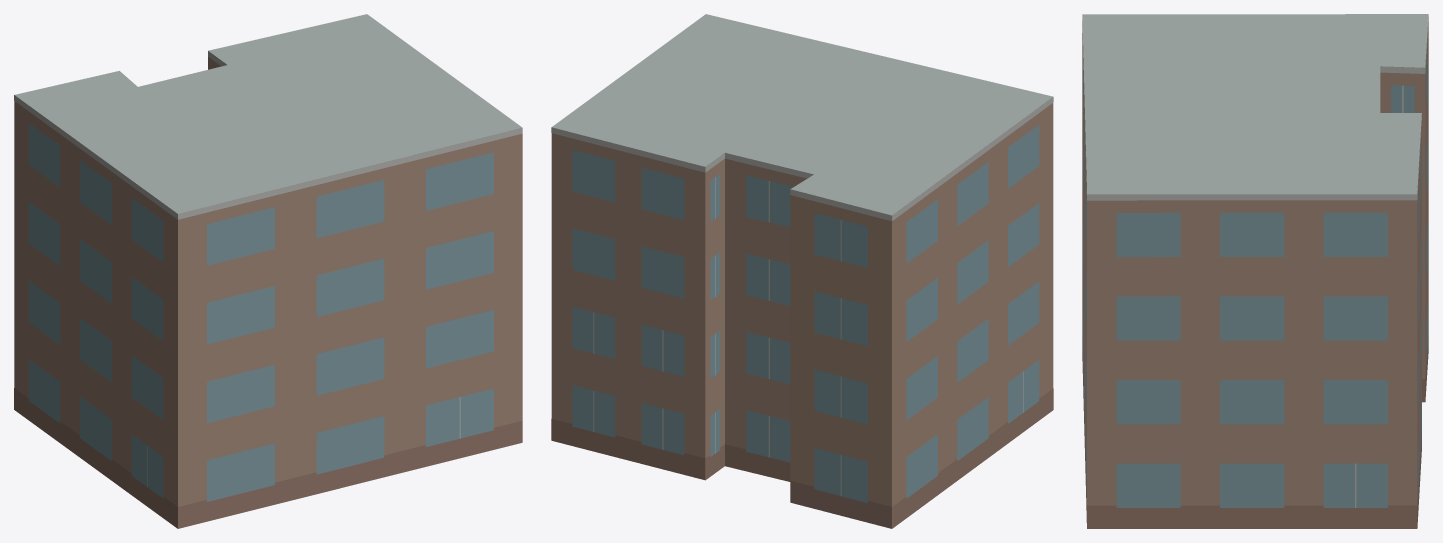
The model's file is survey-upis-32690840.glb.
The picture shows the model from 3 angles, left to right: view 1: azimuth 30°, elevation 25°; view 2: azimuth 150°, elevation 25°; view 3: azimuth 270°, elevation 25°; orthographic projection. The views are drawn at different scales.
Parts seen in each view (by area): view 1: survey-upis-32690840.tmp; view 2: survey-upis-32690840.tmp; view 3: survey-upis-32690840.tmp.
Boxes of the visible parts, x1,y1,x2,y2 form: survey-upis-32690840.tmp: [14, 14, 522, 528]; survey-upis-32690840.tmp: [551, 14, 1053, 528]; survey-upis-32690840.tmp: [1082, 14, 1428, 528].
Bounding box in the file's own units: 15.27 × 13.2 × 12.4.
